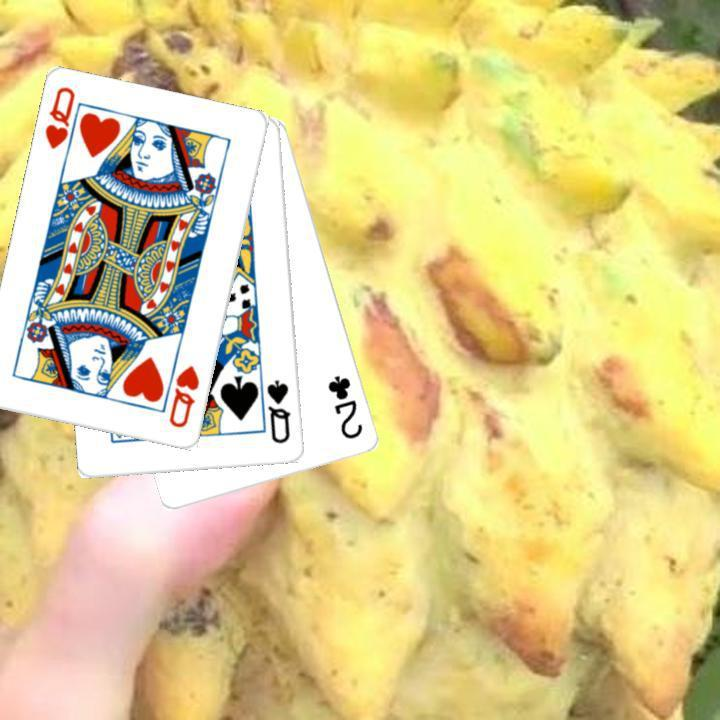2: (324, 371, 366, 442)
Q: (41, 83, 85, 164), (165, 362, 202, 431), (263, 376, 293, 446)
